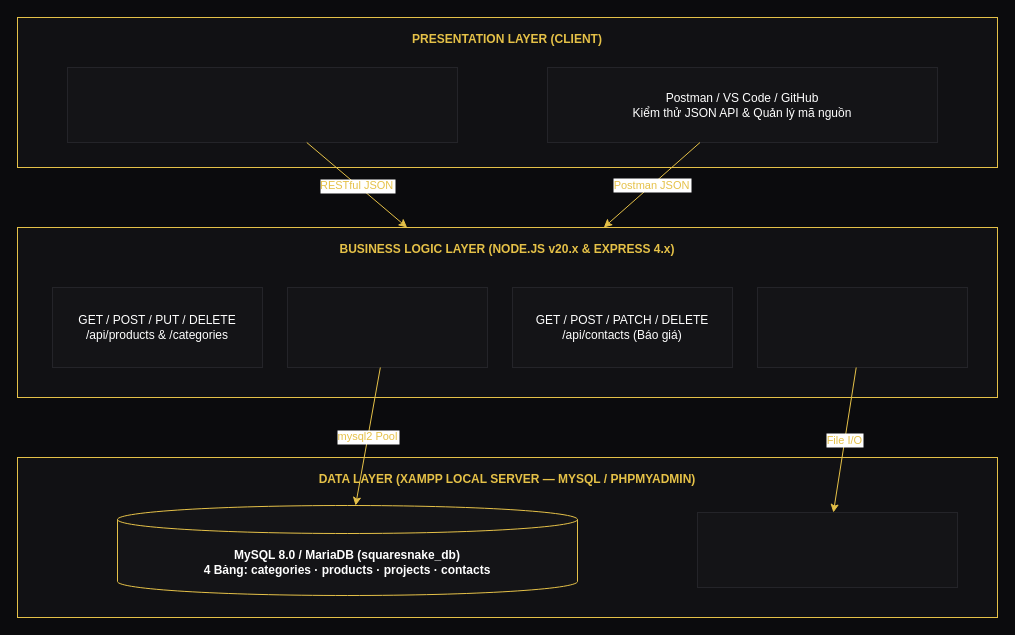
Some shapes in this 1015 by 635 pixel diagram are drawn without their labels. Here are the shapes that lost their labels. From the top down, the centre of each, then its label:
the point at 262,104: HTML5 · CSS3 · Bootstrap 5 · JS ES6+ Giao diện Figma Vàng – Đen & Fetch API
the point at 387,327: GET / POST / DELETE /api/projects
the point at 862,327: Static Media Server /assets, /uploads, /diagrams
the point at 827,550: Thư mục tệp tĩnh (Ảnh & Video sân khấu)
